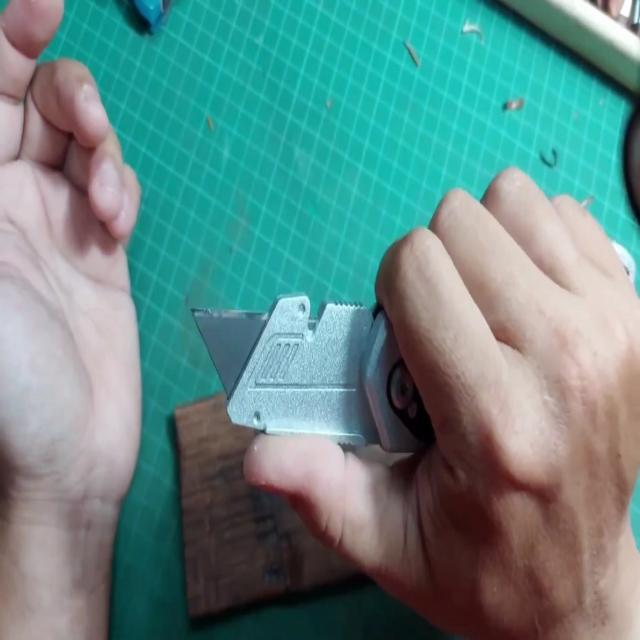cutter: (190, 190, 640, 640)
